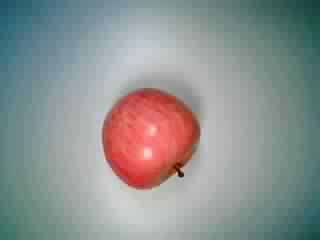apple: (99, 87, 203, 191)
